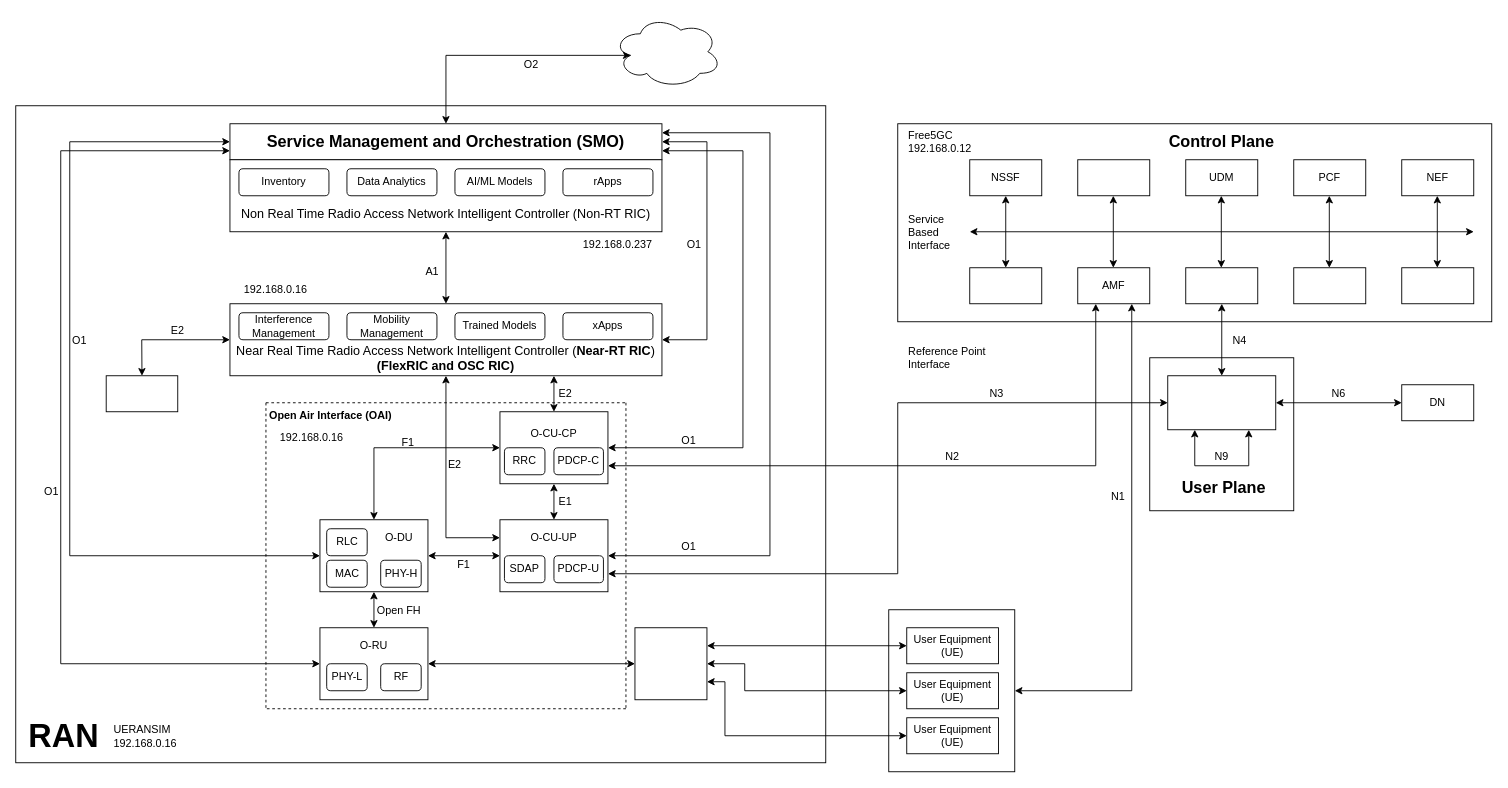
The diagram is 1508 pixels wide and 788 high, and some of its shapes have lost their labels. The box of each missing label's shape, as (x1, y1, x2, y2) in pixels:
AF: (1293, 267, 1366, 304)
Antenna: (634, 627, 707, 700)
AUSF: (969, 267, 1042, 304)
NRF: (1077, 159, 1150, 196)
O-Cloud: (612, 15, 721, 88)
O-eNB: (105, 375, 178, 412)
SMF: (1185, 267, 1258, 304)
UDR: (1401, 267, 1474, 304)
UPF: (1167, 375, 1276, 430)
